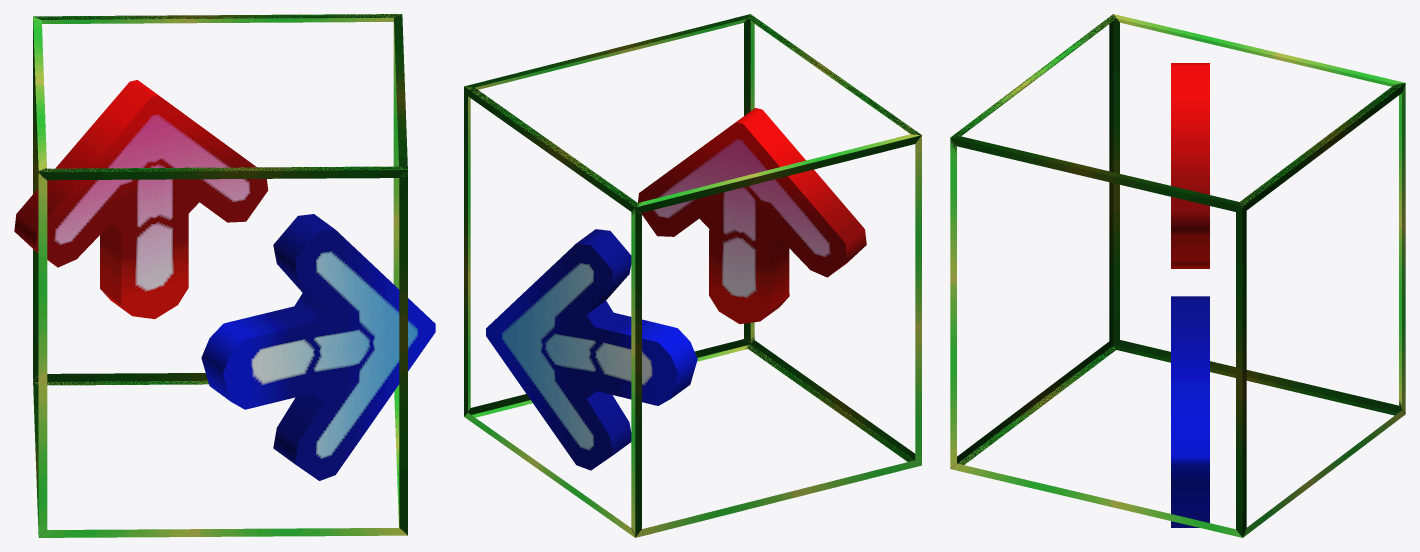
File: output.ico.obj
3 views of the same model, side by side, from view 1: azimuth 30°, elevation 25°; view 2: azimuth 150°, elevation 25°; view 3: azimuth 270°, elevation 25° (orthographic). The views are drawn at different scales.
Bounding box in the file's own units: 4.52 × 4.21 × 4.52.
Materials: 1 (1 with a texture image).
